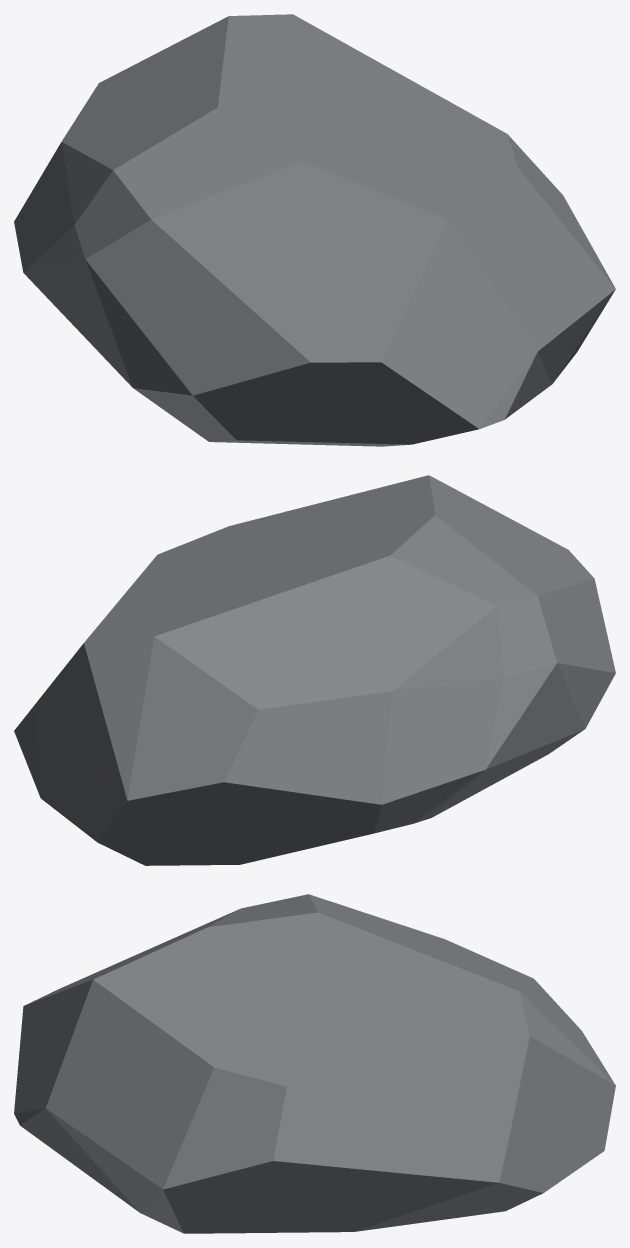
The model's file is Rock_Round_m_04.fbx.
The picture shows the model from 3 angles, top to bottom: view 1: azimuth 30°, elevation 25°; view 2: azimuth 150°, elevation 25°; view 3: azimuth 270°, elevation 25°; orthographic projection. The views are drawn at different scales.
Visible parts, largest first — view 1: Rock_Round_m_04; view 2: Rock_Round_m_04; view 3: Rock_Round_m_04.
Boxes of the visible parts, x1,y1,x2,y2 form: Rock_Round_m_04: [14, 14, 615, 446]; Rock_Round_m_04: [14, 475, 615, 865]; Rock_Round_m_04: [14, 894, 615, 1233].
Size of the model in its own units: 100 by 51.03 by 133.
